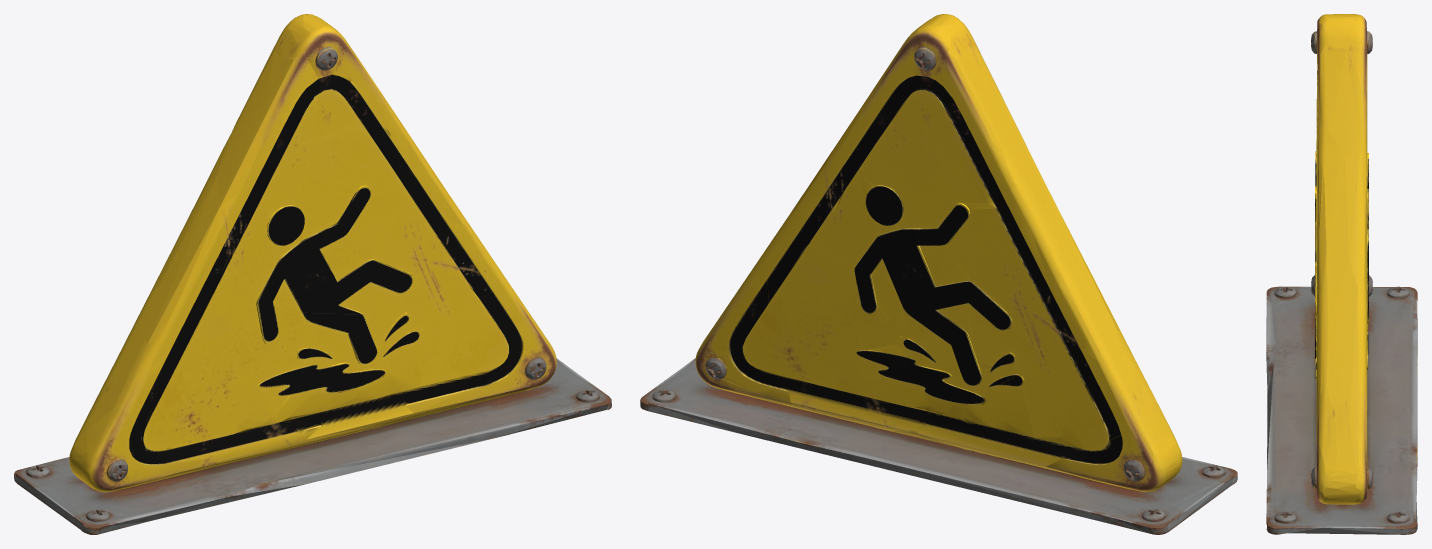
File: cartello_pericolo.glb
The picture shows the model from 3 angles, left to right: view 1: azimuth 30°, elevation 25°; view 2: azimuth 150°, elevation 25°; view 3: azimuth 270°, elevation 25°; orthographic projection. The views are drawn at different scales.
Visible parts, largest first — view 1: Mesh_0; view 2: Mesh_0; view 3: Mesh_0.
Part boxes in pixels (x1=…): Mesh_0: x1=14, y1=14, x2=611, y2=534; Mesh_0: x1=640, y1=14, x2=1237, y2=534; Mesh_0: x1=1266, y1=14, x2=1417, y2=534.
Bounding box in the file's own units: 1.9 × 1.46 × 0.5035.
1 material, 1 textured.
